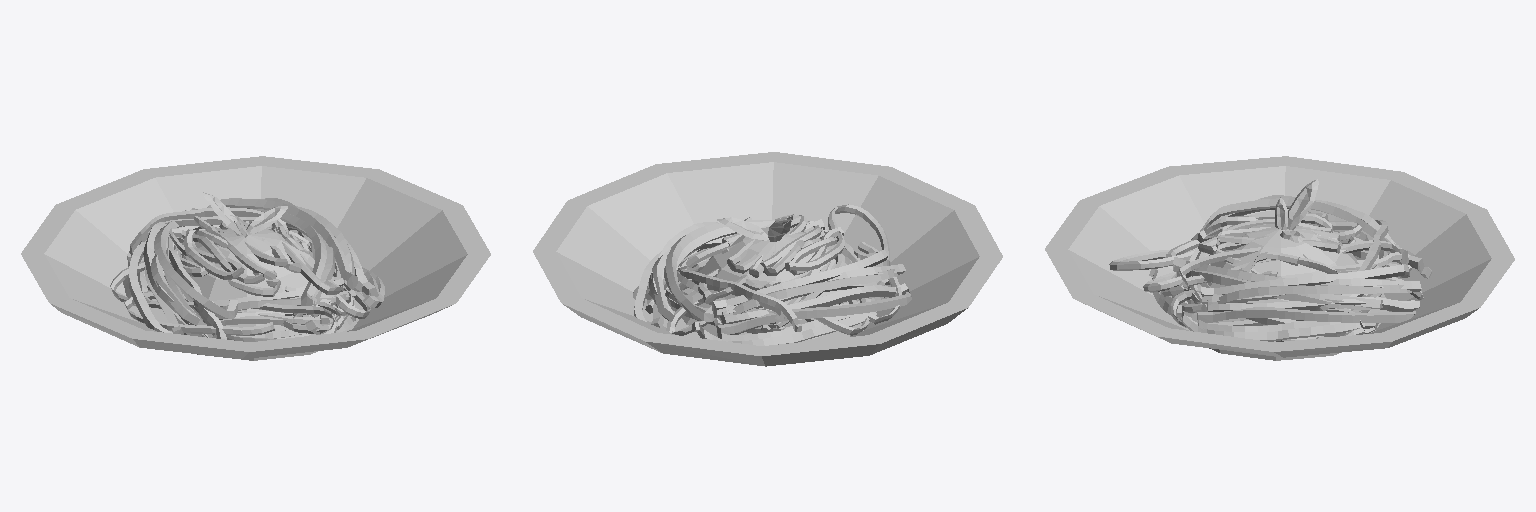
Rendered from pastaObject.obj.
3 views of the same model, side by side, from view 1: azimuth 30°, elevation 25°; view 2: azimuth 150°, elevation 25°; view 3: azimuth 270°, elevation 25° (orthographic).
Bounding box in the file's own units: 0.4998 × 0.1388 × 0.4998.